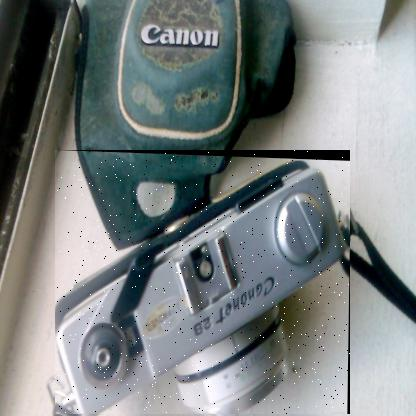Camera: (56, 151, 352, 416)
